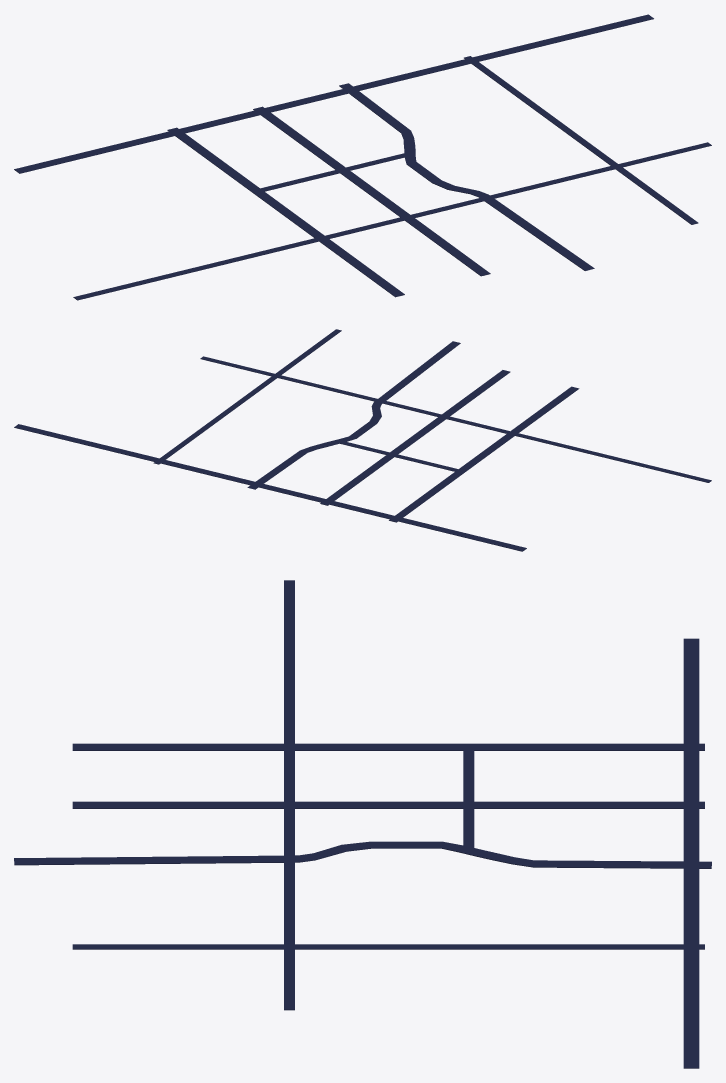
The picture shows the model from 3 angles, top to bottom: view 1: azimuth 30°, elevation 25°; view 2: azimuth 150°, elevation 25°; view 3: azimuth 270°, elevation 25°; orthographic projection. The views are drawn at different scales.
Parts seen in each view (by area): view 1: d道路; view 2: d道路; view 3: d道路.
Part boxes in pixels (x1,y1,x2,y2): d道路: (14,14,711,300); d道路: (14,329,711,551); d道路: (14,580,711,1068).
Size of the model in its own units: 16.21 by 0.01 by 9.8.
